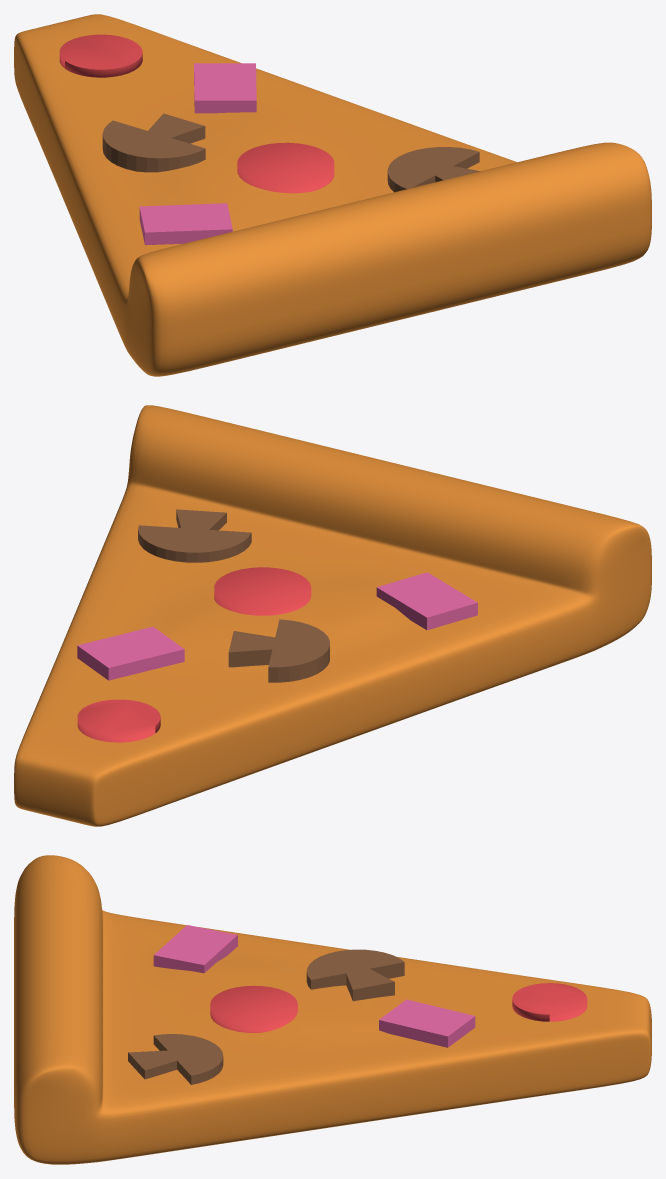
Rendered from pizzabaseBig.gltf.
The picture shows the model from 3 angles, top to bottom: view 1: azimuth 30°, elevation 25°; view 2: azimuth 150°, elevation 25°; view 3: azimuth 270°, elevation 25°; orthographic projection. The views are drawn at different scales.
Parts seen in each view (by area): view 1: Cylinder.002, Cylinder.005, Cylinder.006, Cylinder.003, Cylinder.004, Cylinder.008, Cylinder.010, Cylinder.007, Cylinder.001; view 2: Cylinder.002, Cylinder.005, Cylinder.004, Cylinder.003, Cylinder.008, Cylinder.006, Cylinder.010, Cylinder.007, Cylinder.009; view 3: Cylinder.002, Cylinder.005, Cylinder.004, Cylinder.003, Cylinder.006, Cylinder.008, Cylinder.010, Cylinder.007, Cylinder.009.
Boxes of the visible parts, x1,y1,x2,y2 form: Cylinder.002: (14,14,651,376); Cylinder.005: (237,142,334,193); Cylinder.006: (102,120,205,172); Cylinder.003: (139,203,232,245); Cylinder.004: (194,63,256,113); Cylinder.008: (387,147,479,192); Cylinder.010: (59,34,142,69); Cylinder.007: (148,113,205,143); Cylinder.001: (65,54,142,77); Cylinder.002: (14,405,651,826); Cylinder.005: (214,567,311,615); Cylinder.004: (77,626,184,680); Cylinder.003: (376,572,477,630); Cylinder.008: (138,525,251,562); Cylinder.006: (268,619,329,682); Cylinder.010: (77,699,160,742); Cylinder.007: (228,631,274,667); Cylinder.009: (176,509,226,530); Cylinder.002: (14,855,651,1164); Cylinder.005: (210,985,297,1033); Cylinder.004: (379,999,475,1047); Cylinder.003: (153,925,237,973); Cylinder.006: (306,949,404,989); Cylinder.008: (153,1034,223,1084); Cylinder.010: (512,983,587,1021); Cylinder.007: (346,969,394,1001); Cylinder.009: (128,1050,176,1079).
Size of the model in its own units: 15.05 by 3.36 by 18.55.
